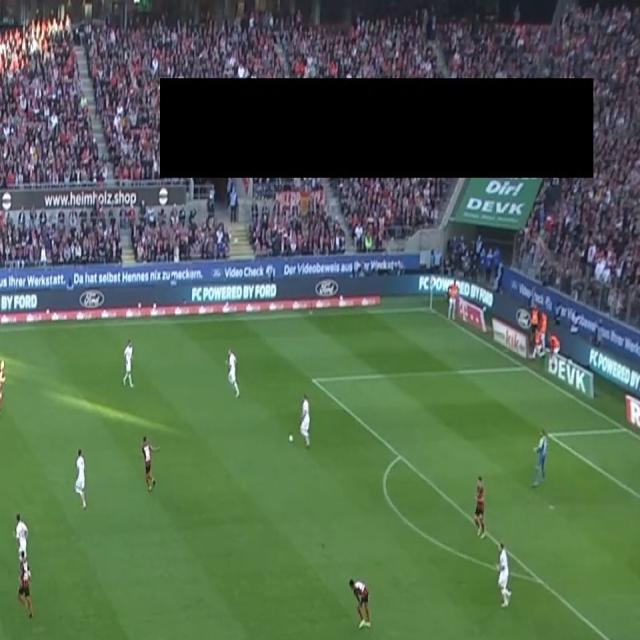ball: (288, 433, 294, 443)
